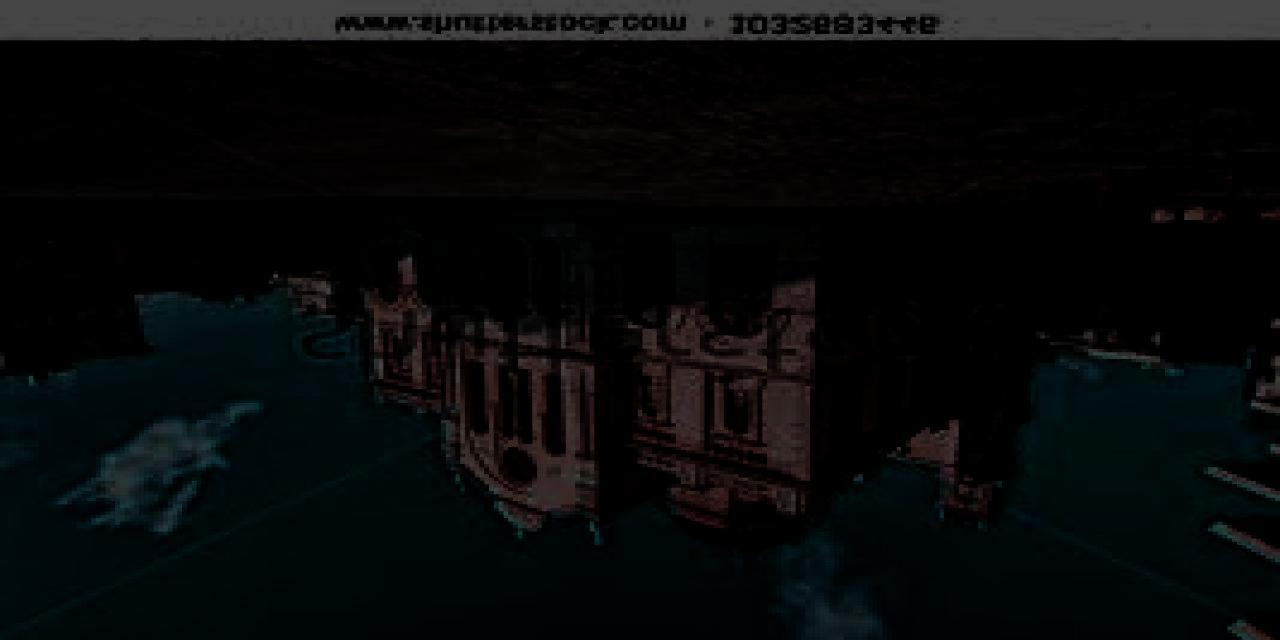Agios Minas: (330, 210, 1050, 564)
